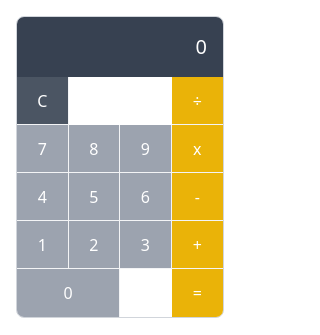
Test: check that 56 - 9 === 47
Click the button named "five" at (94, 197), box [68, 173, 120, 221]
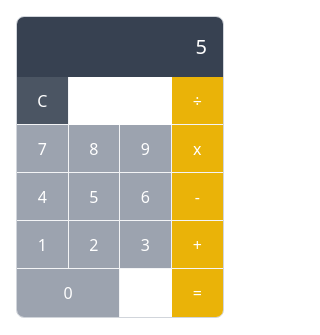
Click the button named "six" at (146, 197), box [120, 173, 172, 221]
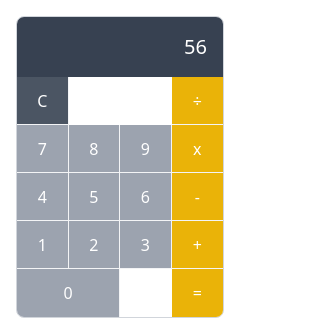
Click the button named "minus" at (197, 197), box [172, 173, 223, 221]
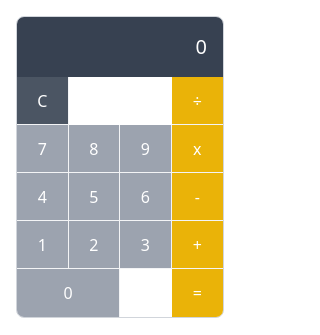
Click the button named "nine" at (146, 149), box [120, 125, 172, 173]
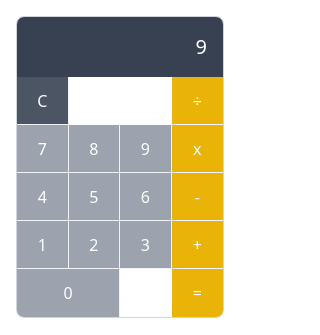
Click the button named "equals" at (197, 293), box [172, 269, 223, 317]
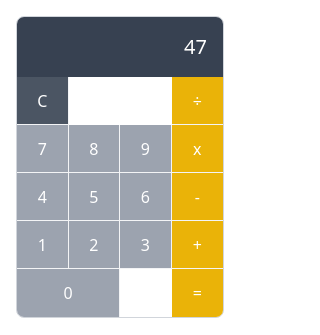
Expected: the text titled "answer" reads "47", [184, 33, 207, 60]
